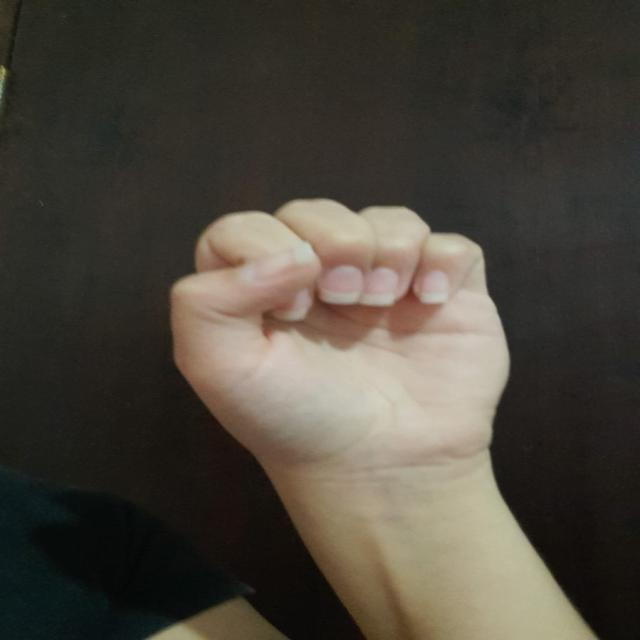S: (157, 196, 516, 456)
